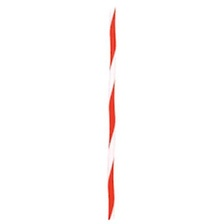drinking_straw: (99, 2, 124, 222)
